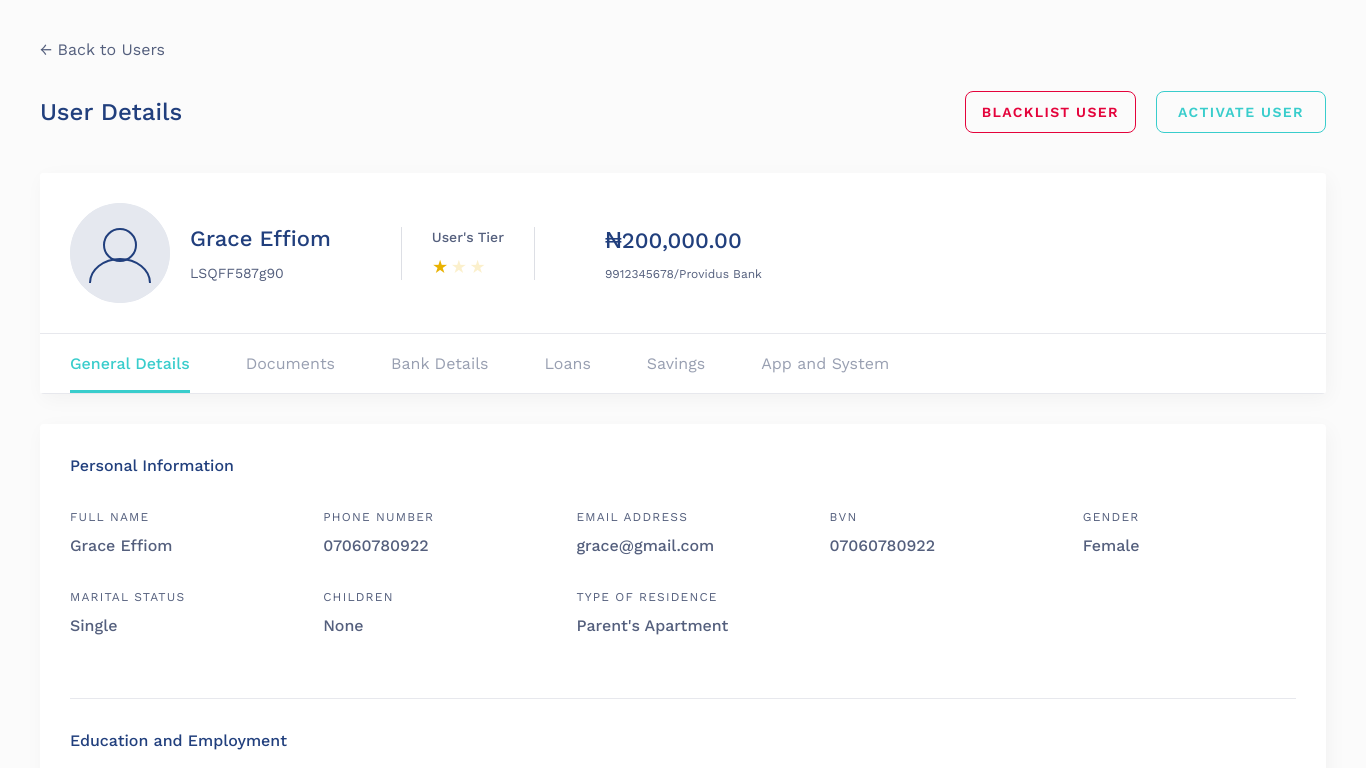
Test case: UserDetails Page › Success State › changes active tab when tab is clicked
Click the button "Documents": (290, 364) top-left (246, 334), bottom-right (335, 393)
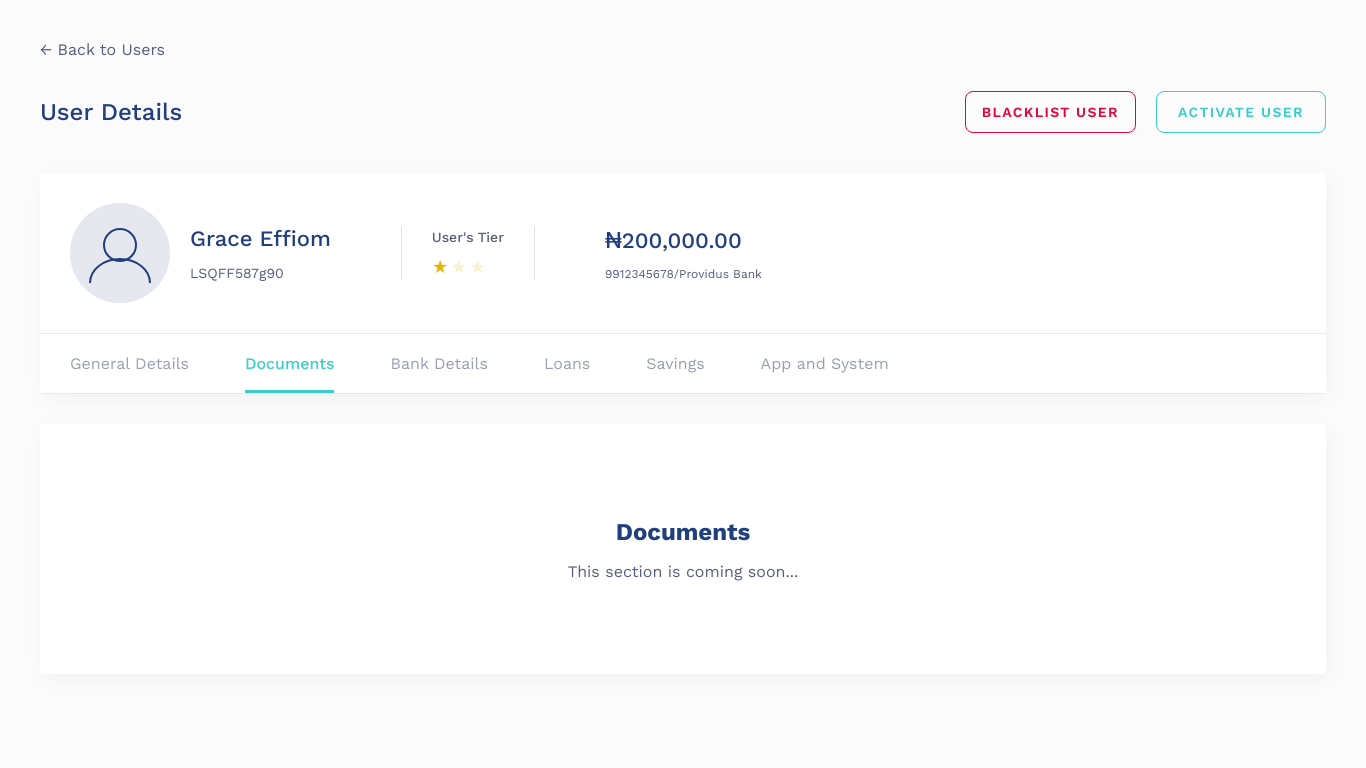
Expected: the text "This section is coming soon..." is shown, top-left (568, 562), bottom-right (798, 581)
